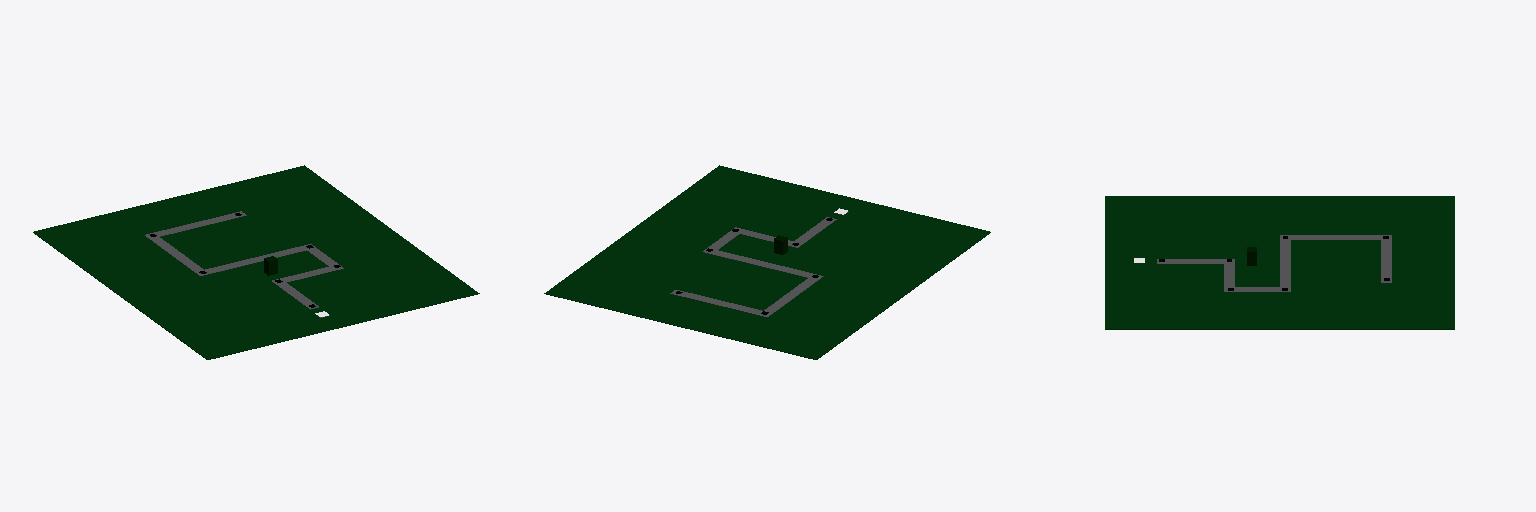
3 renders of one model, left to right at view 1: azimuth 30°, elevation 25°; view 2: azimuth 150°, elevation 25°; view 3: azimuth 270°, elevation 25°, orthographic.
Parts seen in each view (by area): view 1: Grassland1, Part3; view 2: Grassland1, Part3; view 3: Grassland1, Part3.
Part boxes in pixels (bbox=[...]): Grassland1: bbox=[33, 165, 479, 359]; Part3: bbox=[195, 246, 307, 275]; Grassland1: bbox=[544, 165, 990, 359]; Part3: bbox=[712, 250, 823, 279]; Grassland1: bbox=[1105, 196, 1454, 329]; Part3: bbox=[1280, 235, 1290, 287].
Bounding box in the file's own units: 112 × 5.65 × 125.